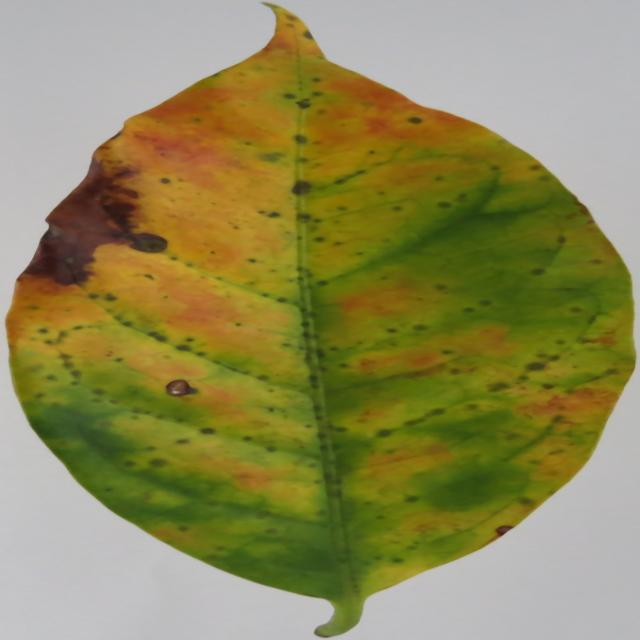DeficienciaNutricional-Fosforo: (8, 6, 633, 636)
